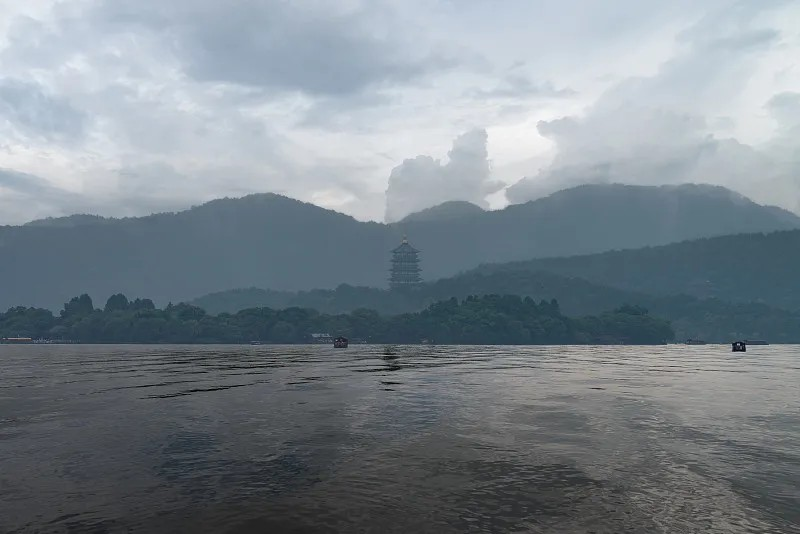Leifeng: (385, 236, 423, 291)
